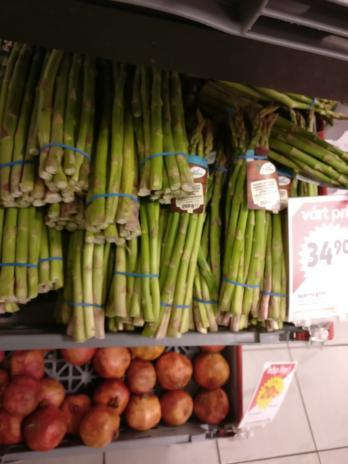Asparagus: (2, 44, 132, 345), (132, 65, 260, 329), (255, 89, 348, 187)
